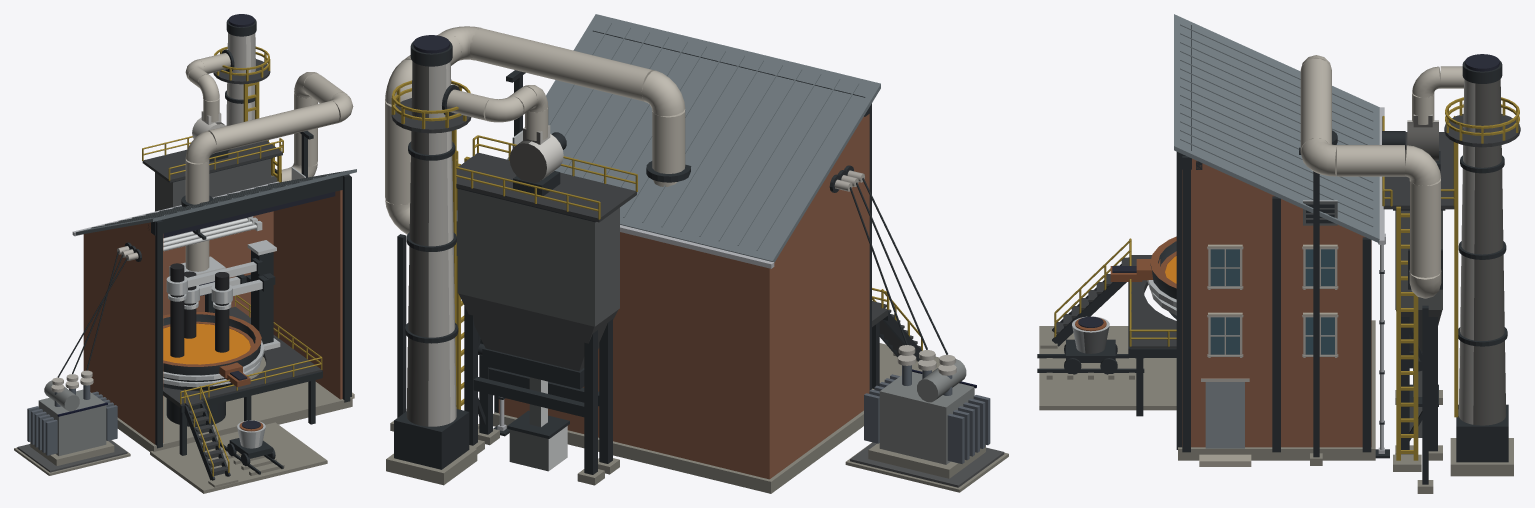
Rendered from eaf_lvl2.glb.
3 renders of one model, left to right at view 1: azimuth 30°, elevation 25°; view 2: azimuth 150°, elevation 25°; view 3: azimuth 270°, elevation 25°, orthographic. The views are drawn at different scales.
Parts seen in each view (by area): view 1: eaf_v2; view 2: eaf_v2; view 3: eaf_v2, eaf_v2_Glass.
Boxes of the visible parts, x1=… form: eaf_v2: x1=14, y1=14, x2=356, y2=493; eaf_v2: x1=385, y1=14, x2=1008, y2=493; eaf_v2: x1=1037, y1=14, x2=1520, y2=493; eaf_v2_Glass: x1=1210, y1=249, x2=1334, y2=354.
Size of the model in its own units: 0.8527 by 0.6931 by 0.7557.
